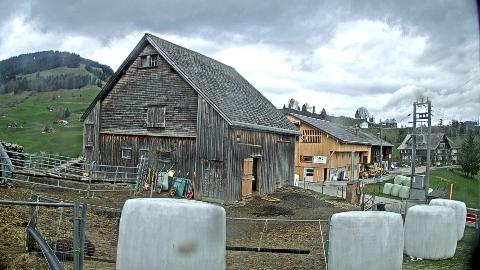car: (390, 162, 396, 172)
sheep: (37, 240, 95, 260), (375, 201, 385, 211), (252, 175, 256, 183)
